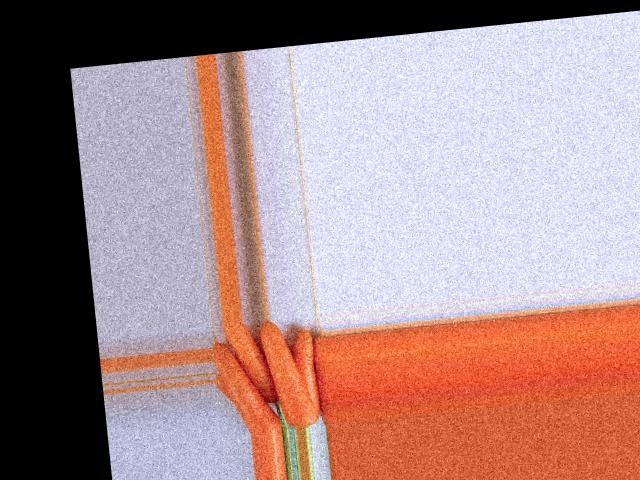carrot: (290, 324, 328, 423)
